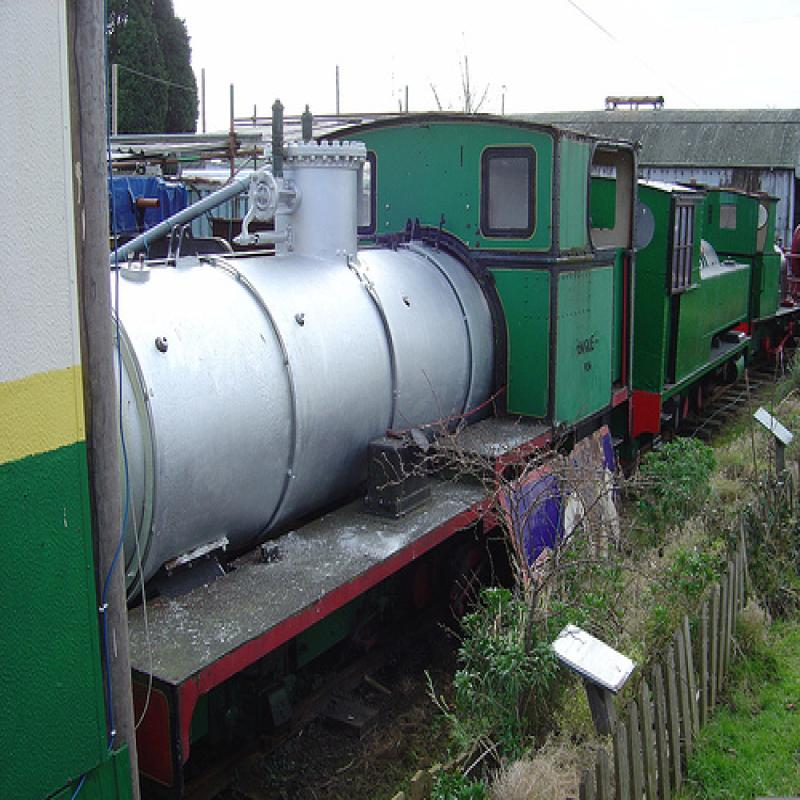train: (102, 106, 799, 788)
